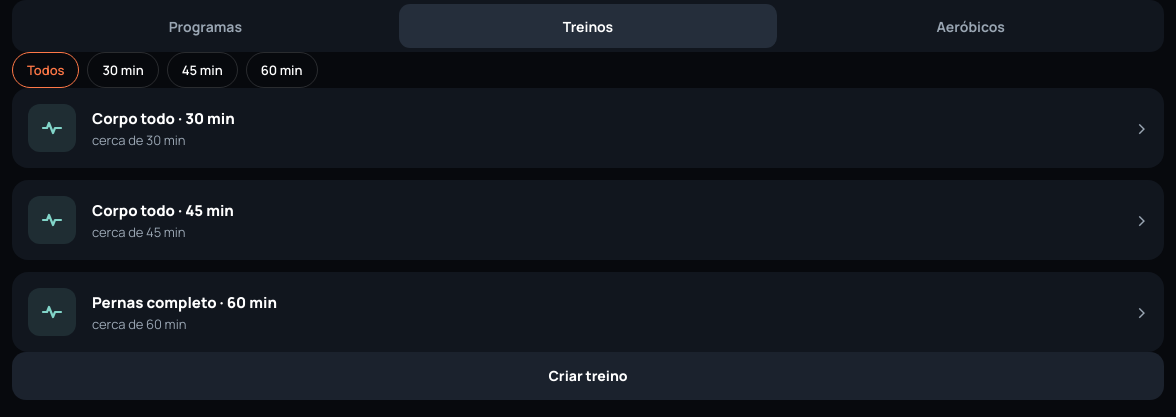
Biblioteca por tempo (EPIC-32) › filtra os treinos pelo tempo por dia
The width and height of the screenshot is (1176, 417).
Check: the number of list items is 3, box [12, 88, 1164, 168]; [12, 180, 1164, 260]; [12, 272, 1164, 352]
Click the radio button labelled "45 min": {"x": 202, "y": 70} [167, 52, 238, 88]
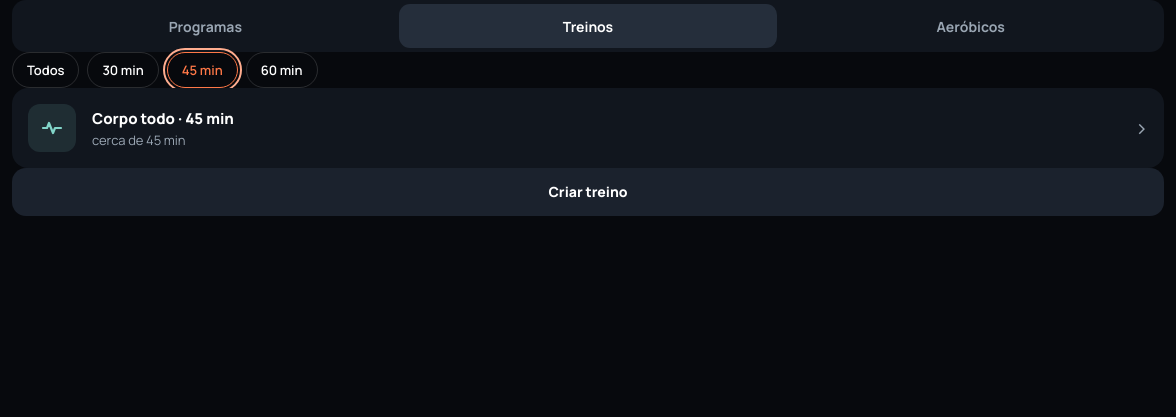
Click the radio button labelled "Todos": {"x": 46, "y": 70} [12, 52, 79, 88]
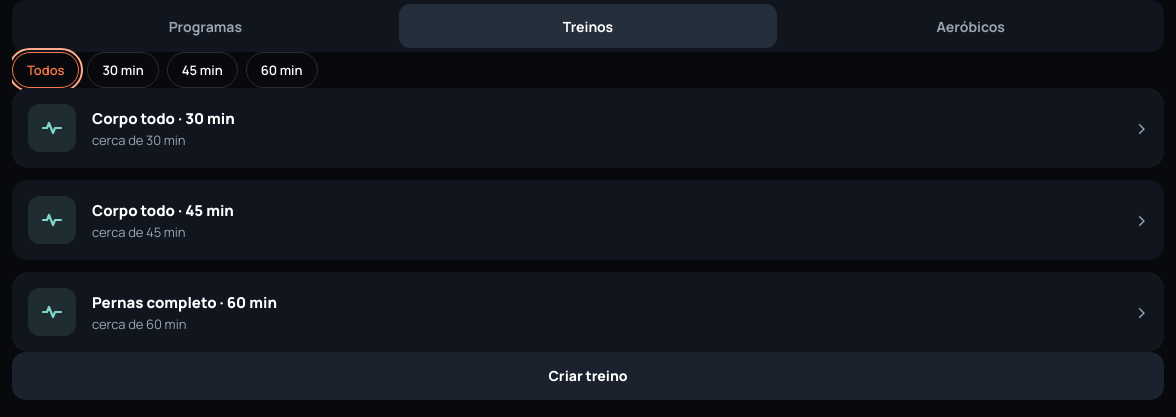
Check: the number of list items is 3, box [12, 88, 1164, 168]; [12, 180, 1164, 260]; [12, 272, 1164, 352]
